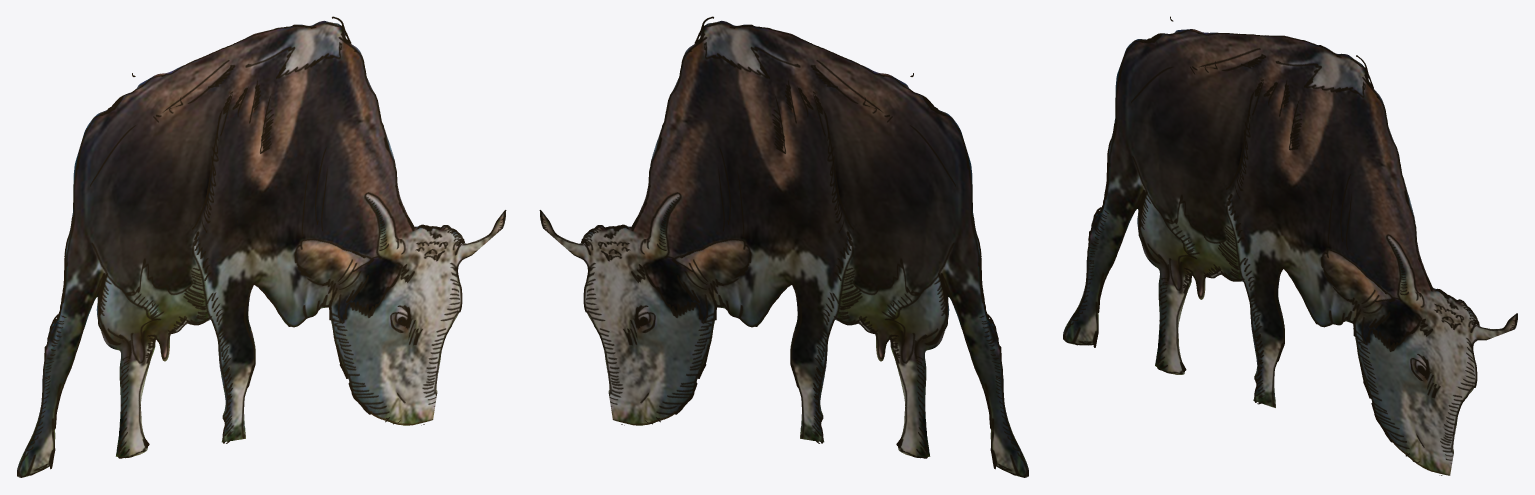
The model's file is vaca.fbx.
3 views of the same model, side by side, from view 1: azimuth 30°, elevation 25°; view 2: azimuth 150°, elevation 25°; view 3: azimuth 330°, elevation 25° (orthographic). The views are drawn at different scales.
Parts seen in each view (by area): view 1: vaca1; view 2: vaca1; view 3: vaca1.
Boxes of the visible parts, x1=… form: vaca1: x1=17, y1=16, x2=506, y2=477; vaca1: x1=539, y1=16, x2=1028, y2=477; vaca1: x1=1063, y1=16, x2=1517, y2=475.
Bounding box in the file's own units: 14.77 × 12.5 × 0.
1 material, 1 textured.
